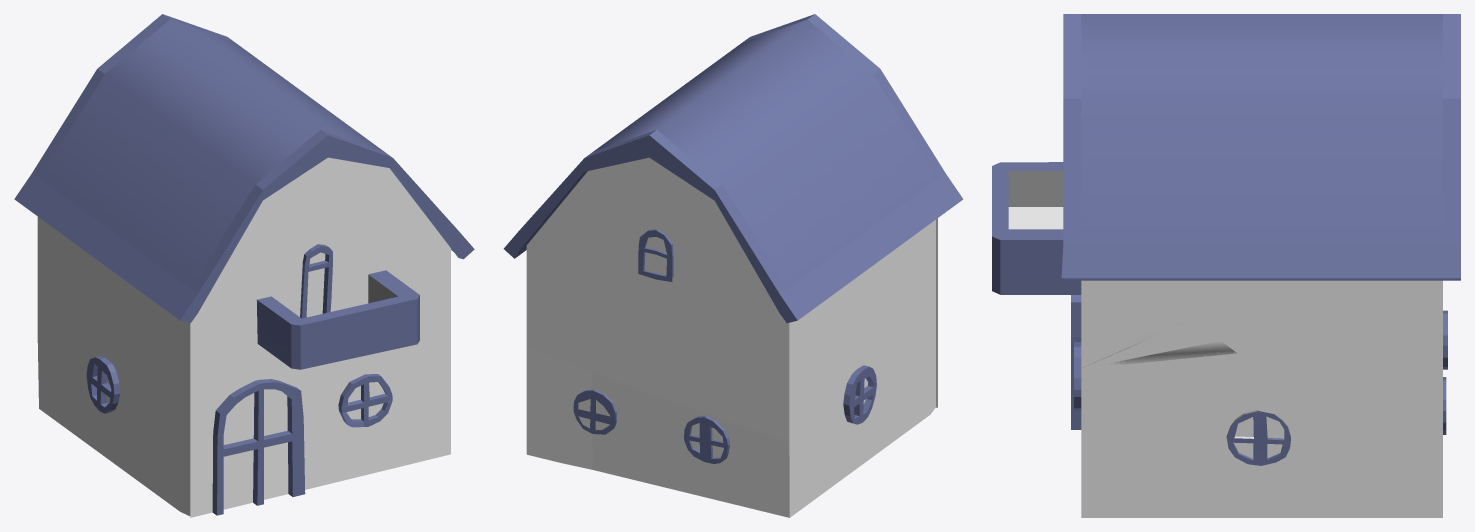
Rendered from House 2 Final Shatter 3.fbx.
3 renders of one model, left to right at view 1: azimuth 30°, elevation 25°; view 2: azimuth 150°, elevation 25°; view 3: azimuth 270°, elevation 25°, orthographic. The views are drawn at different scales.
Visible parts, largest first — view 1: polySurface464, polySurface463; view 2: polySurface464; view 3: polySurface464, polySurface463.
Boxes of the visible parts, left/top/right/bottom form: polySurface464: left=14, top=14, right=474, bottom=517; polySurface463: left=421, top=344, right=450, bottom=461; polySurface464: left=503, top=14, right=963, bottom=517; polySurface464: left=992, top=14, right=1460, bottom=517; polySurface463: left=1082, top=321, right=1236, bottom=367.
Bounding box in the file's own units: 226 × 261 × 259.
